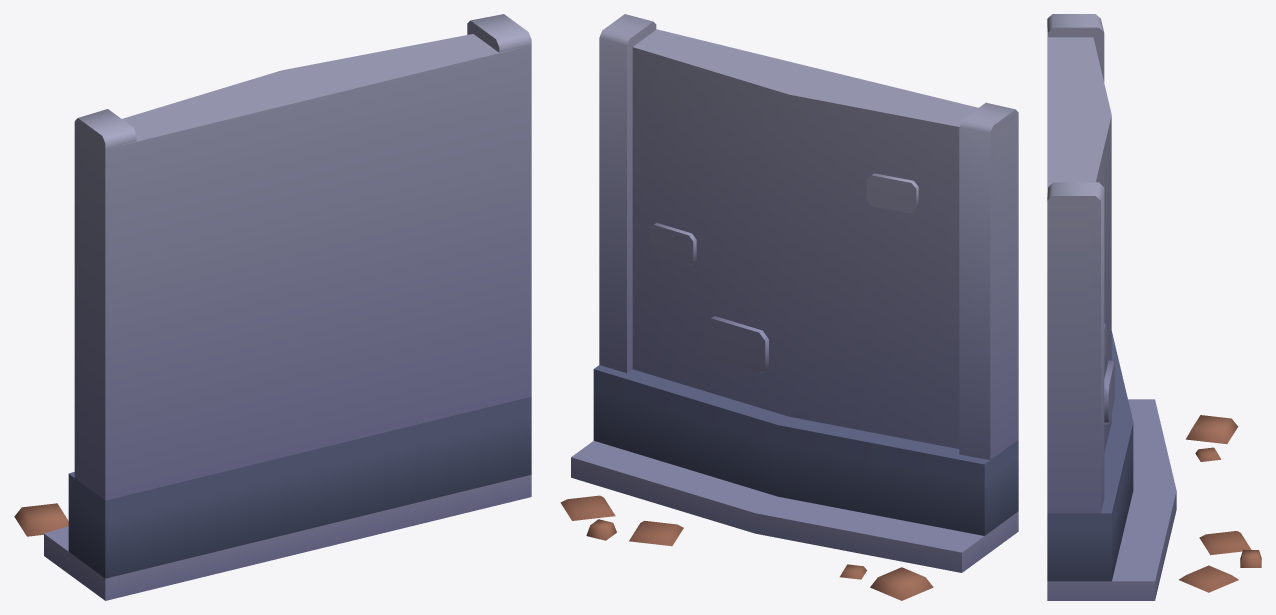
The model's file is k-dungeon-wall.glb.
The picture shows the model from 3 angles, left to right: view 1: azimuth 30°, elevation 25°; view 2: azimuth 150°, elevation 25°; view 3: azimuth 270°, elevation 25°; orthographic projection. The views are drawn at different scales.
Parts seen in each view (by area): view 1: template-wall; view 2: template-wall; view 3: template-wall.
Part boxes in pixels (x1,y1,x2,y2): template-wall: (14,14,531,600); template-wall: (560,14,1018,600); template-wall: (1047,14,1261,600).
Size of the model in its own units: 4 by 4.15 by 1.99.
1 material, 1 textured.
